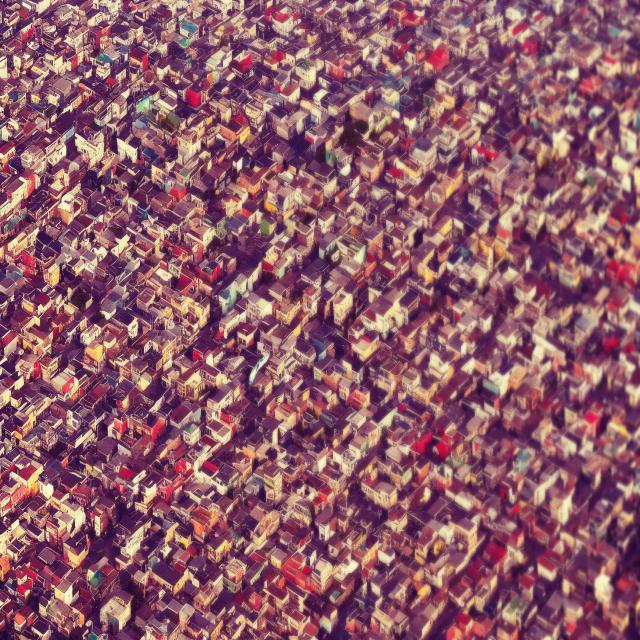airplane: (249, 354, 270, 384)
